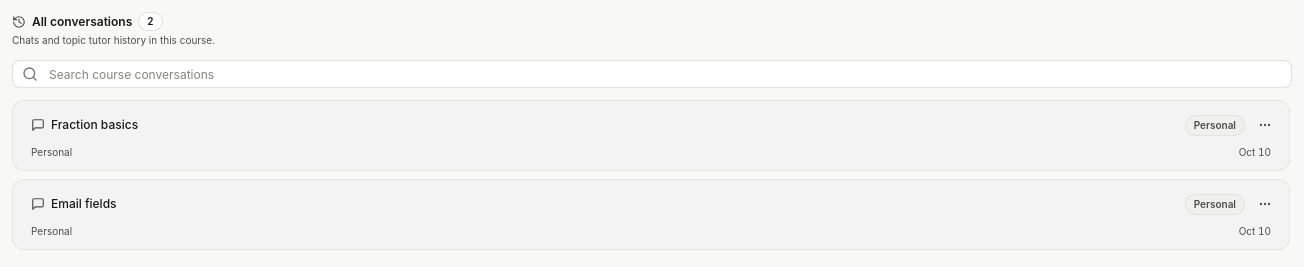
Scenario: StudioChatDirectory (LSI-018) › filters the directory with scoped search and clears it
Check: the text "Fraction basics" is shown, box [51, 117, 138, 133]
Type "Email" into the field labelled "Search course conversations" at (652, 74), box [12, 60, 1292, 88]
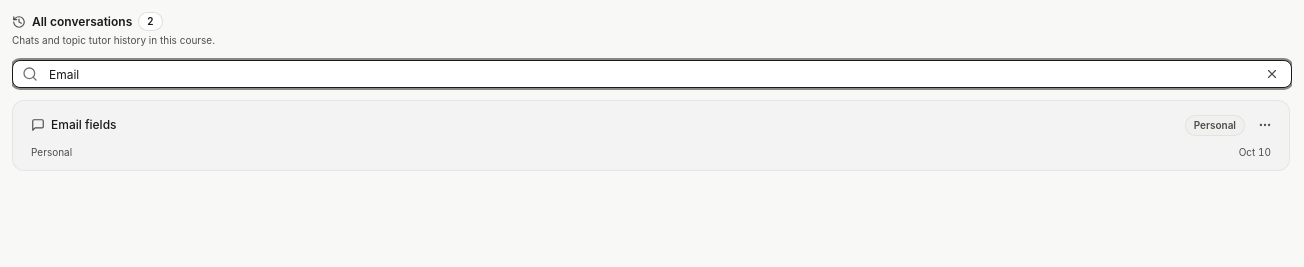
Check: the text "Email fields" is shown, box [51, 117, 116, 133]
Check: the button "Fraction basics" is gone
Click the button named "Clear search" at (1272, 74), box [1260, 62, 1284, 86]
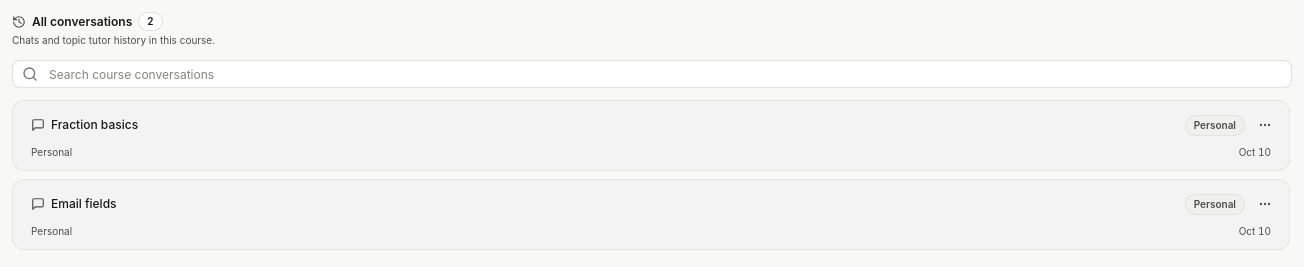
Check: the text "Fraction basics" is shown, box [51, 117, 138, 133]
